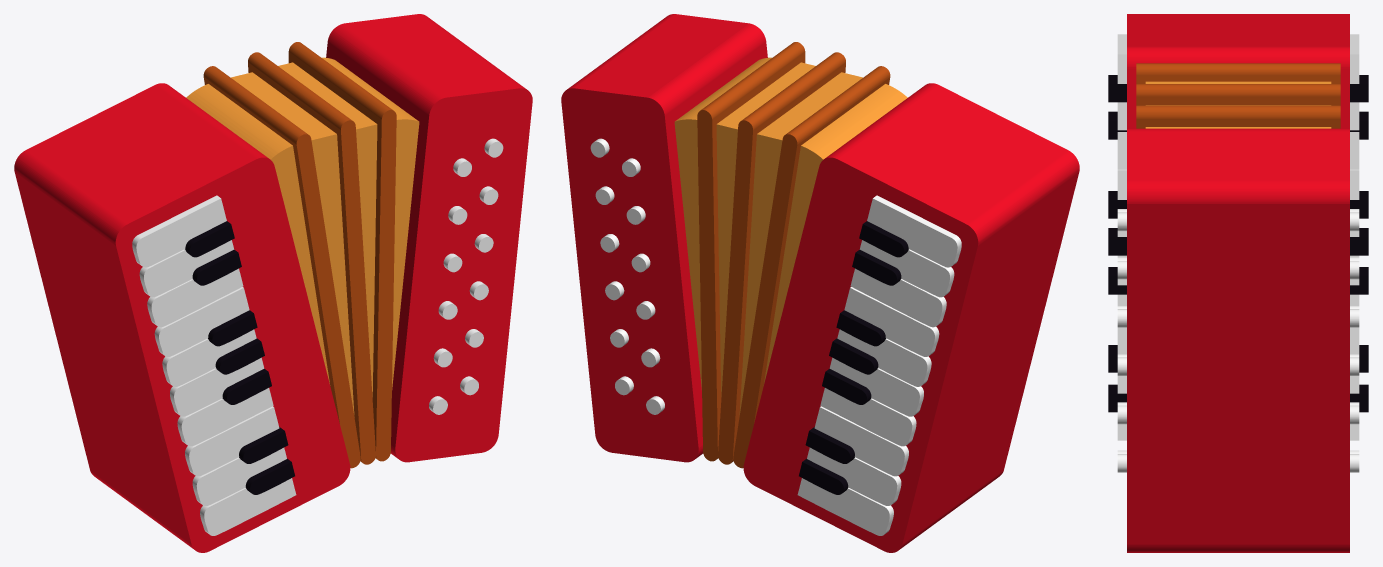
The picture shows the model from 3 angles, left to right: view 1: azimuth 30°, elevation 25°; view 2: azimuth 150°, elevation 25°; view 3: azimuth 270°, elevation 25°; orthographic projection. The views are drawn at different scales.
Parts seen in each view (by area): view 1: U+1FA97_layer02_obj00, U+1FA97_layer03_obj00, U+1FA97_layer01_obj00, U+1FA97_layer00_obj00, U+1FA97_layer04_obj00; view 2: U+1FA97_layer02_obj00, U+1FA97_layer03_obj00, U+1FA97_layer01_obj00, U+1FA97_layer00_obj00, U+1FA97_layer04_obj00; view 3: U+1FA97_layer02_obj00, U+1FA97_layer01_obj00, U+1FA97_layer03_obj00, U+1FA97_layer04_obj00, U+1FA97_layer00_obj00.
Boxes of the visible parts, bbox=[...] form: U+1FA97_layer02_obj00: bbox=[14, 14, 532, 552]; U+1FA97_layer03_obj00: bbox=[132, 138, 503, 535]; U+1FA97_layer01_obj00: bbox=[203, 42, 396, 468]; U+1FA97_layer00_obj00: bbox=[186, 57, 419, 414]; U+1FA97_layer04_obj00: bbox=[185, 221, 294, 494]; U+1FA97_layer02_obj00: bbox=[561, 14, 1079, 552]; U+1FA97_layer03_obj00: bbox=[590, 138, 961, 535]; U+1FA97_layer01_obj00: bbox=[697, 42, 890, 468]; U+1FA97_layer00_obj00: bbox=[674, 57, 907, 414]; U+1FA97_layer04_obj00: bbox=[799, 221, 908, 494]; U+1FA97_layer02_obj00: bbox=[1127, 14, 1349, 552]; U+1FA97_layer01_obj00: bbox=[1136, 63, 1340, 128]; U+1FA97_layer03_obj00: bbox=[1117, 34, 1359, 472]; U+1FA97_layer04_obj00: bbox=[1108, 75, 1368, 412]; U+1FA97_layer00_obj00: bbox=[1145, 81, 1331, 128].
Bounding box in the file's own units: 0.5695 × 0.5172 × 0.28.
